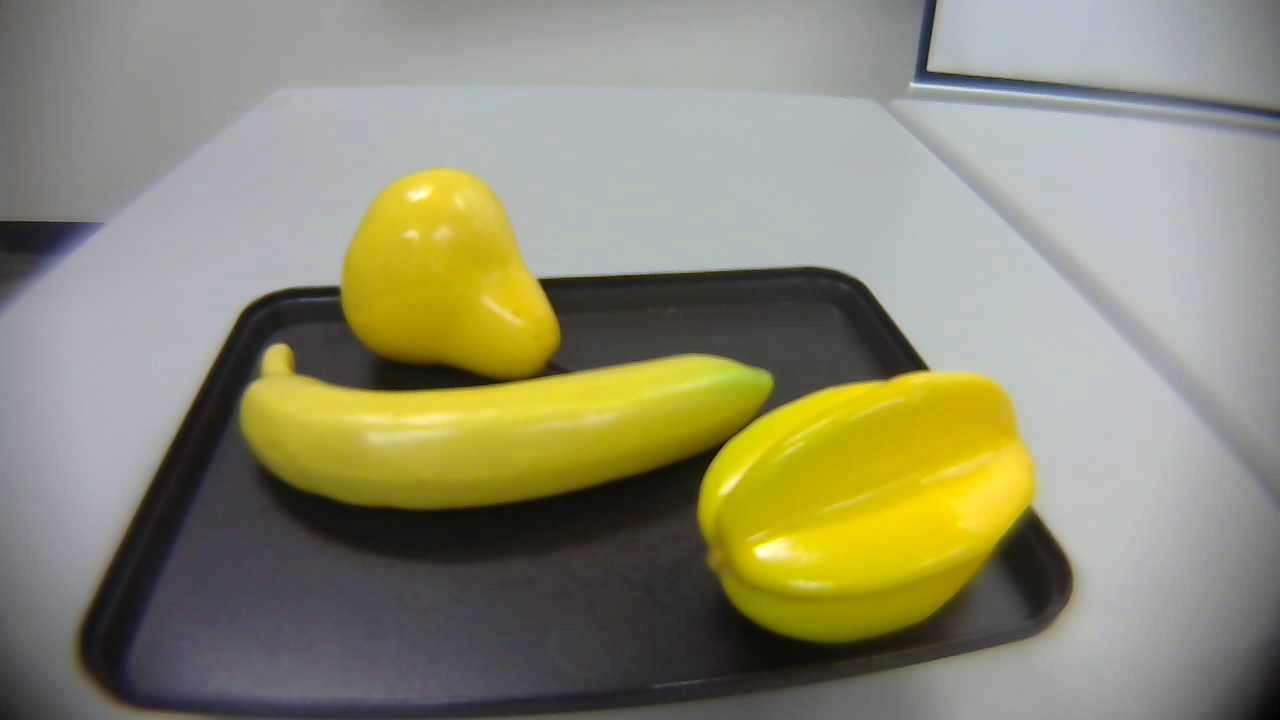banana: (235, 340, 784, 507)
star fruit: (688, 363, 1048, 634)
yellow pear: (338, 168, 566, 375)
